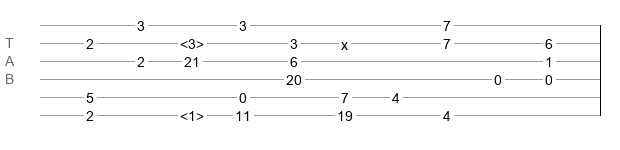0: (239, 90, 247, 100), (494, 72, 502, 82), (545, 72, 553, 82)
1: (545, 54, 553, 64)
11: (235, 108, 251, 118)
19: (337, 108, 353, 118)
2: (86, 108, 94, 118), (86, 36, 94, 46), (137, 54, 145, 64)
20: (286, 72, 302, 82)
21: (184, 54, 200, 64)
3: (137, 18, 145, 28), (239, 18, 247, 28), (290, 36, 298, 46)
4: (392, 90, 400, 100), (443, 108, 451, 118)
5: (86, 90, 94, 100)
6: (290, 54, 298, 64), (545, 36, 553, 46)
7: (341, 90, 349, 100), (443, 18, 451, 28), (443, 36, 451, 46)
harmonic: (180, 108, 204, 118), (180, 36, 204, 46)
x: (341, 37, 348, 45)
